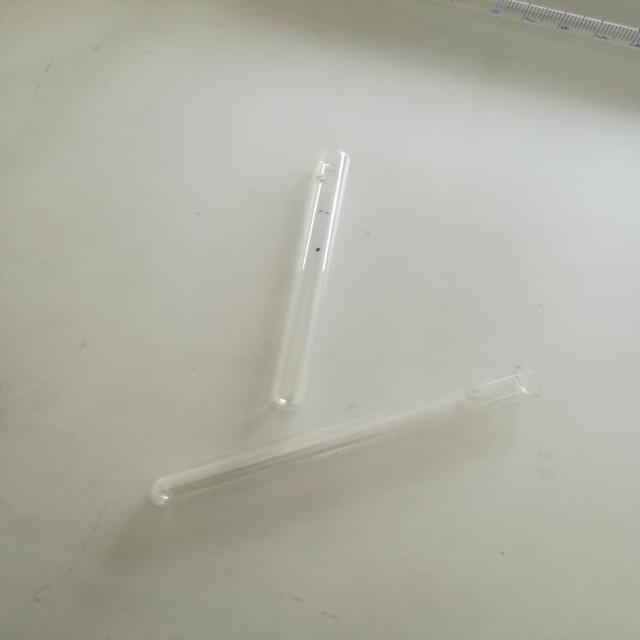Test_Tube: (107, 350, 583, 523), (235, 118, 361, 431)
